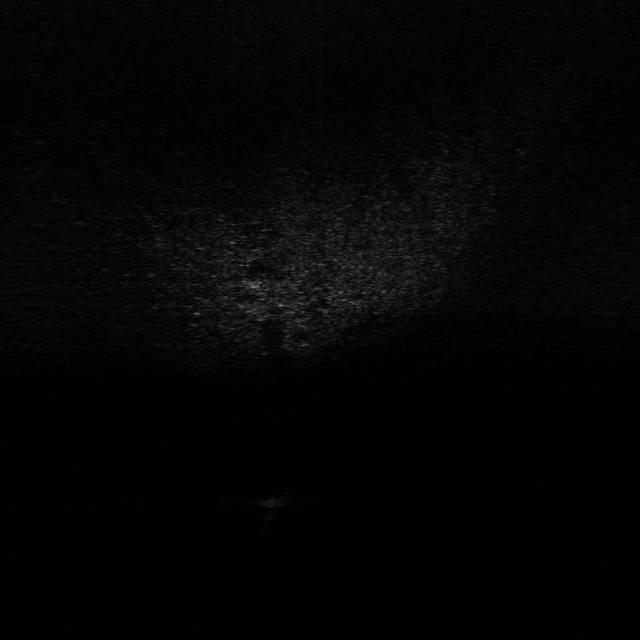cylinder: (264, 488, 288, 517)
